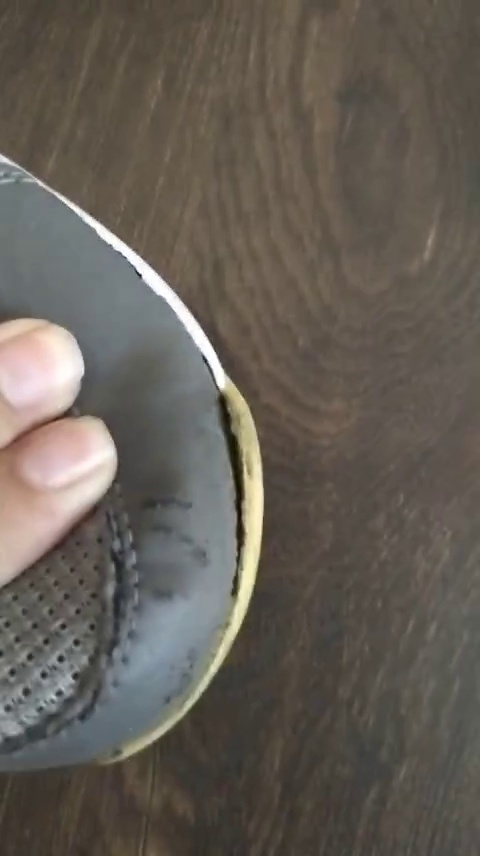bonding: (211, 383, 268, 599)
